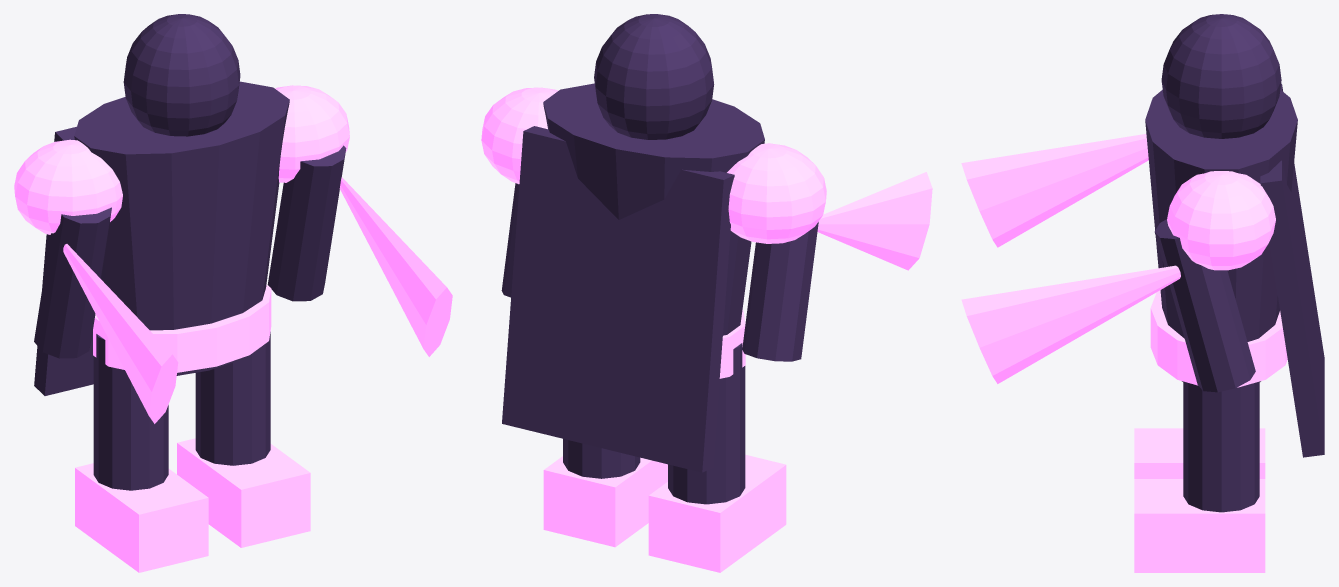
File: enemy_void_assassin.glb
The picture shows the model from 3 angles, left to right: view 1: azimuth 30°, elevation 25°; view 2: azimuth 150°, elevation 25°; view 3: azimuth 270°, elevation 25°; orthographic projection. The views are drawn at different scales.
Visible parts, largest first — view 1: Cone, Sphere.002, Cube, Cube.001, Cylinder.004, Cylinder, Cylinder.001, Cylinder.003, Sphere, Cone.001, Cone.002, Cylinder.002 (+2 smaller); view 2: Cube.002, Cone, Sphere.002, Cube, Sphere, Cube.001, Cylinder.003, Cone.001, Cylinder, Sphere.001, Cylinder.001, Cylinder.002 (+1 smaller); view 3: Cone, Sphere.002, Cone.002, Cone.001, Cube.001, Cube.002, Cylinder.001, Sphere.001, Cylinder.004, Cylinder.002, Cube.
Boxes of the visible parts, bbox=[...] form: Cone: bbox=[74, 81, 289, 375]; Sphere.002: bbox=[123, 14, 240, 136]; Cube: bbox=[75, 463, 208, 572]; Cube.001: bbox=[177, 438, 310, 547]; Cylinder.004: bbox=[267, 145, 346, 301]; Cylinder: bbox=[93, 334, 168, 490]; Cylinder.001: bbox=[195, 332, 270, 465]; Cylinder.003: bbox=[34, 207, 111, 358]; Sphere: bbox=[14, 139, 122, 234]; Cone.001: bbox=[63, 244, 178, 423]; Cone.002: bbox=[339, 177, 452, 356]; Cylinder.002: bbox=[93, 285, 271, 372]; Cube.002: bbox=[502, 126, 734, 472]; Cone: bbox=[543, 83, 764, 335]; Sphere.002: bbox=[594, 14, 714, 139]; Cube: bbox=[648, 454, 786, 572]; Sphere: bbox=[727, 143, 826, 243]; Cube.001: bbox=[543, 456, 667, 547]; Cylinder.003: bbox=[742, 222, 818, 361]; Cone.001: bbox=[817, 172, 932, 270]; Cylinder: bbox=[668, 343, 745, 504]; Sphere.001: bbox=[481, 87, 558, 184]; Cylinder.001: bbox=[563, 439, 640, 478]; Cylinder.002: bbox=[719, 310, 745, 378]; Cone: bbox=[1145, 90, 1297, 381]; Sphere.002: bbox=[1161, 14, 1281, 138]; Cone.002: bbox=[961, 265, 1180, 383]; Cone.001: bbox=[961, 134, 1148, 247]; Cube.001: bbox=[1134, 479, 1265, 572]; Cube.002: bbox=[1260, 83, 1324, 457]; Cylinder.001: bbox=[1183, 381, 1259, 512]; Sphere.001: bbox=[1167, 171, 1275, 270]; Cylinder.004: bbox=[1154, 219, 1255, 392]; Cylinder.002: bbox=[1150, 290, 1287, 387]; Cube: bbox=[1134, 428, 1265, 478].
Size of the model in its own units: 1.36 by 2.03 by 1.3.
